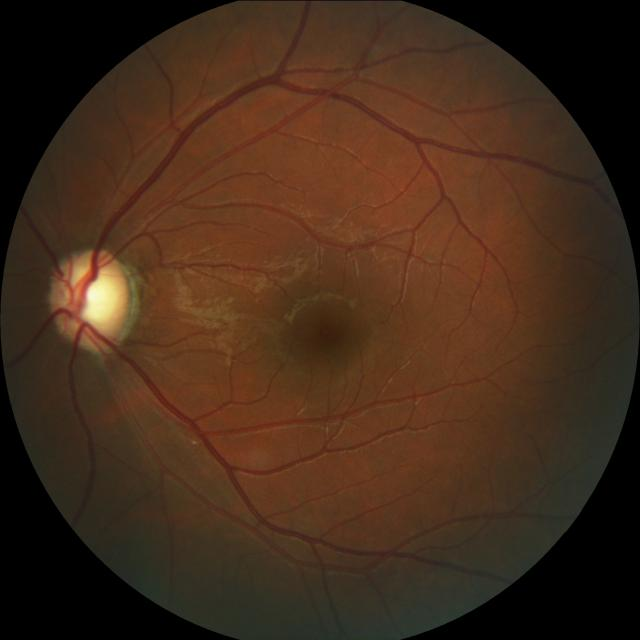OC: (56, 264, 121, 331)
OD: (48, 246, 130, 348)
